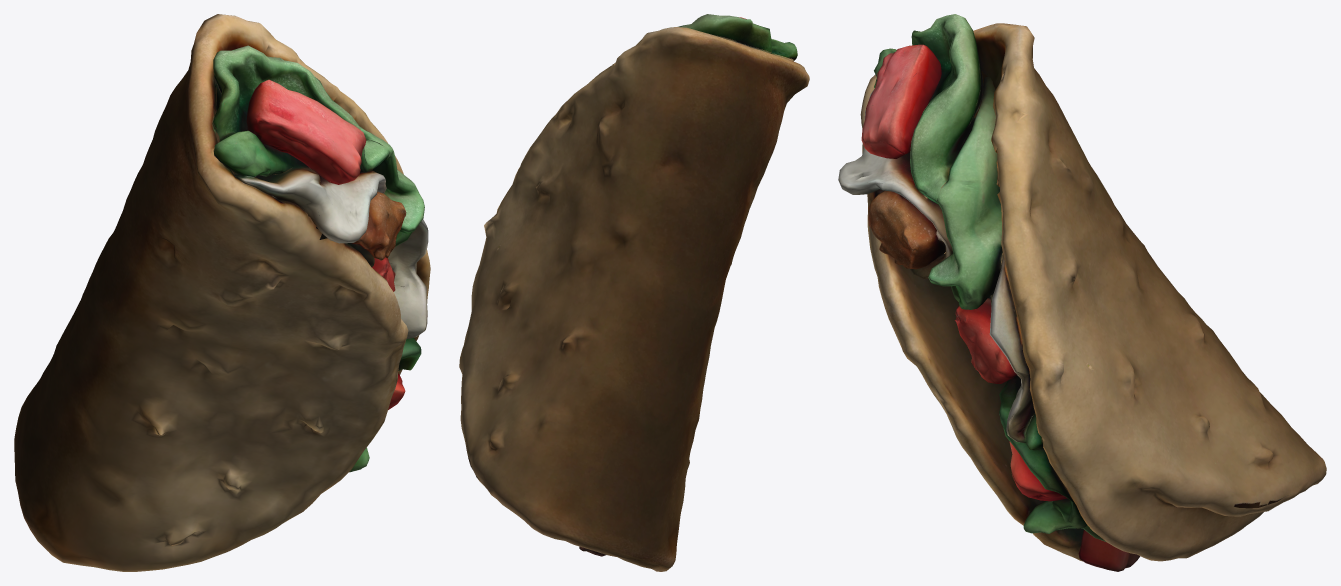
The model's file is Stack 1C - Taco.glb.
3 views of the same model, side by side, from view 1: azimuth 30°, elevation 25°; view 2: azimuth 150°, elevation 25°; view 3: azimuth 270°, elevation 25° (orthographic). The views are drawn at different scales.
Visible parts, largest first — view 1: Stack 1C - Taco · part 1, Stack 1C - Taco · part 2, Stack 1C - Taco · part 7, Stack 1C - Taco · part 10, Stack 1C - Taco · part 5, Stack 1C - Taco · part 8, Stack 1C - Taco · part 12; view 2: Stack 1C - Taco · part 1, Stack 1C - Taco · part 2; view 3: Stack 1C - Taco · part 1, Stack 1C - Taco · part 2, Stack 1C - Taco · part 5, Stack 1C - Taco · part 8, Stack 1C - Taco · part 10, Stack 1C - Taco · part 7, Stack 1C - Taco · part 11, Stack 1C - Taco · part 12, Stack 1C - Taco · part 3, Stack 1C - Taco · part 4, Stack 1C - Taco · part 6.
Boxes of the visible parts, box(x1,y1,x2,y2) form: Stack 1C - Taco · part 1: box(14, 14, 430, 571); Stack 1C - Taco · part 2: box(212, 45, 390, 184); Stack 1C - Taco · part 7: box(234, 162, 386, 266); Stack 1C - Taco · part 10: box(388, 219, 428, 338); Stack 1C - Taco · part 5: box(360, 126, 424, 246); Stack 1C - Taco · part 8: box(352, 191, 406, 260); Stack 1C - Taco · part 12: box(398, 338, 421, 370); Stack 1C - Taco · part 1: box(459, 27, 809, 571); Stack 1C - Taco · part 2: box(670, 14, 797, 61); Stack 1C - Taco · part 1: box(860, 23, 1326, 561); Stack 1C - Taco · part 2: box(861, 14, 983, 205); Stack 1C - Taco · part 5: box(928, 76, 1002, 309); Stack 1C - Taco · part 8: box(868, 190, 945, 269); Stack 1C - Taco · part 10: box(989, 254, 1043, 450); Stack 1C - Taco · part 7: box(838, 88, 953, 278); Stack 1C - Taco · part 11: box(954, 298, 1016, 383); Stack 1C - Taco · part 12: box(999, 375, 1087, 528); Stack 1C - Taco · part 3: box(1078, 530, 1140, 571); Stack 1C - Taco · part 4: box(1009, 441, 1068, 501); Stack 1C - Taco · part 6: box(1023, 493, 1105, 541).
Bounding box in the file's own units: 0.5581 × 1 × 0.8306.
12 materials, 12 textured.
